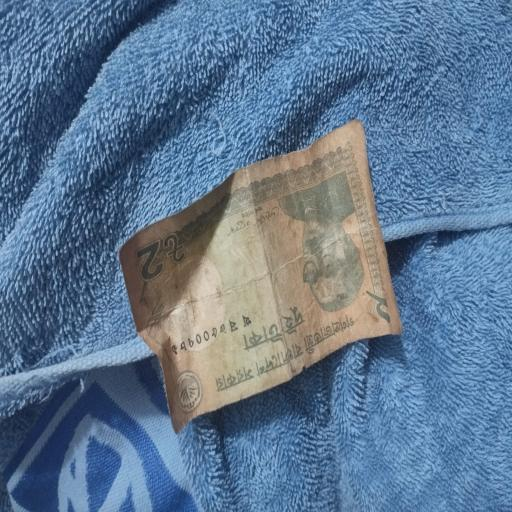2taka: (113, 119, 404, 432)
